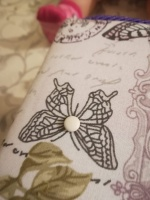Yuvarlak Buskopan: (63, 114, 81, 133)
